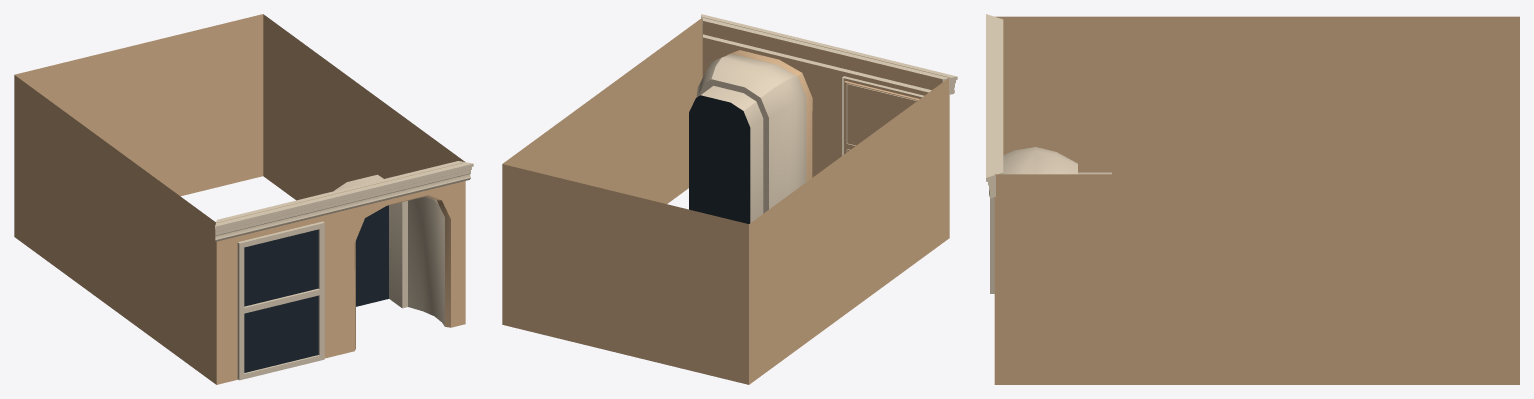
3 views of the same model, side by side, from view 1: azimuth 30°, elevation 25°; view 2: azimuth 150°, elevation 25°; view 3: azimuth 270°, elevation 25° (orthographic). The views are drawn at different scales.
Parts seen in each view (by area): view 1: B1_GF_03; view 2: B1_GF_03; view 3: B1_GF_03.
Part boxes in pixels (x1,y1,x2,y2): B1_GF_03: (14, 14, 473, 384); B1_GF_03: (502, 14, 957, 384); B1_GF_03: (986, 14, 1519, 384).
Size of the model in its own units: 5.9 by 3.53 by 8.12.
